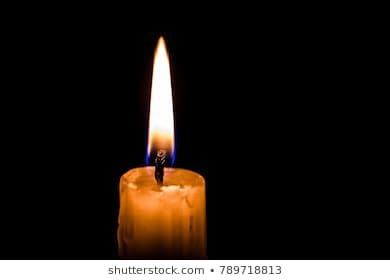fire: (147, 33, 175, 166)
